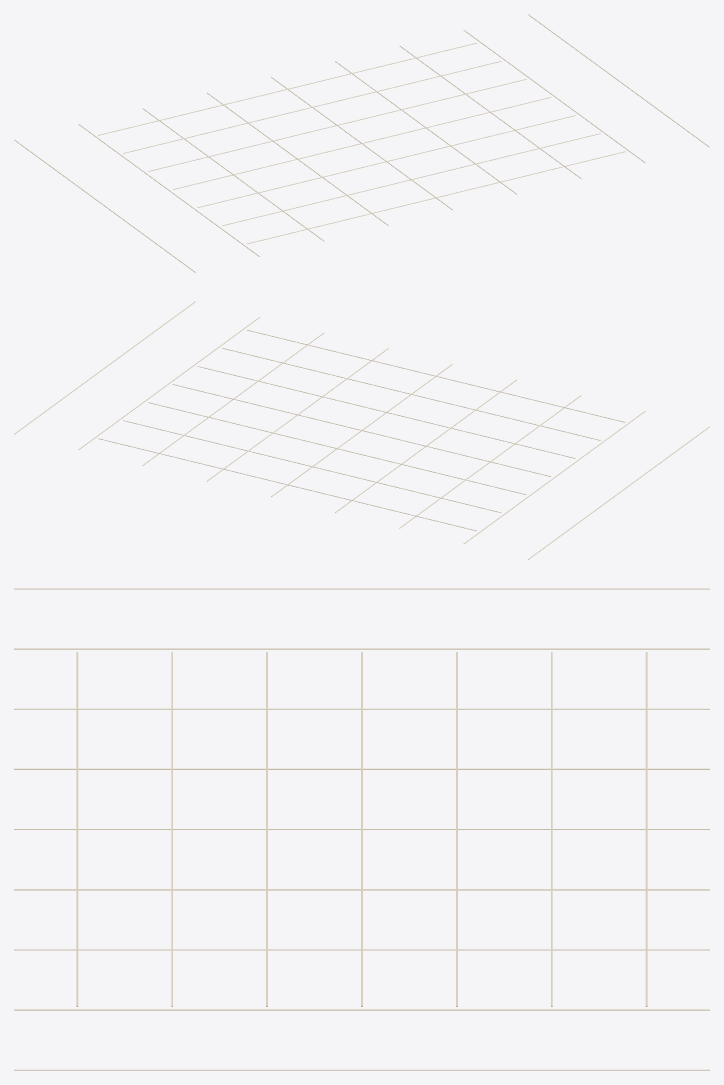
3 views of the same model, one above another, from view 1: azimuth 30°, elevation 25°; view 2: azimuth 150°, elevation 25°; view 3: azimuth 270°, elevation 25° (orthographic). The views are drawn at different scales.
Parts seen in each view (by area): view 1: Grout Y, Grout Y.001, Grout Y.005, Grout Y.006, Grout Y.003, Grout Y.004, Grout Y.002; view 2: Grout Y.006, Grout Y, Grout Y.001, Grout Y.005, Grout Y.002, Grout Y.003, Grout Y.004; view 3: Grout X, Grout X.001, Grout X.007, Grout X.008, Grout X.002, Grout X.003, Grout X.005, Grout X.006, Grout Y.006, Grout Y.
Part boxes in pixels (left/top/right/bottom): Grout Y: left=247, top=151, right=625, bottom=243; Grout Y.001: left=222, top=133, right=600, bottom=225; Grout Y.005: left=123, top=61, right=501, bottom=153; Grout Y.006: left=98, top=43, right=476, bottom=135; Grout Y.003: left=173, top=97, right=550, bottom=189; Grout Y.004: left=148, top=79, right=526, bottom=171; Grout Y.002: left=197, top=115, right=575, bottom=207; Grout Y.006: left=98, top=438, right=476, bottom=530; Grout Y: left=247, top=330, right=625, bottom=422; Grout Y.001: left=222, top=348, right=600, bottom=440; Grout Y.005: left=123, top=420, right=501, bottom=512; Grout Y.002: left=197, top=366, right=575, bottom=458; Grout Y.003: left=173, top=384, right=550, bottom=476; Grout Y.004: left=148, top=402, right=526, bottom=494; Grout X: left=14, top=588, right=709, bottom=589; Grout X.001: left=14, top=648, right=709, bottom=649; Grout X.007: left=14, top=1009, right=709, bottom=1010; Grout X.008: left=14, top=1069, right=709, bottom=1070; Grout X.002: left=14, top=708, right=709, bottom=709; Grout X.003: left=14, top=768, right=709, bottom=769; Grout X.005: left=14, top=889, right=709, bottom=890; Grout X.006: left=14, top=949, right=709, bottom=950; Grout Y.006: left=645, top=652, right=647, bottom=1006; Grout Y: left=76, top=652, right=78, bottom=1006.
Size of the model in its own units: 7.21 by 0.003 by 4.4.
Materials: 1 (1 with a texture image).
